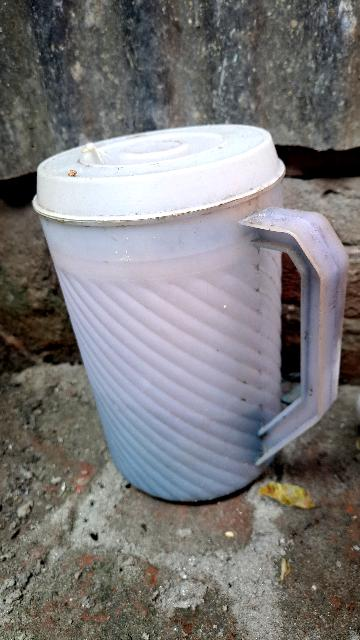hardplastic: (14, 90, 357, 512)
